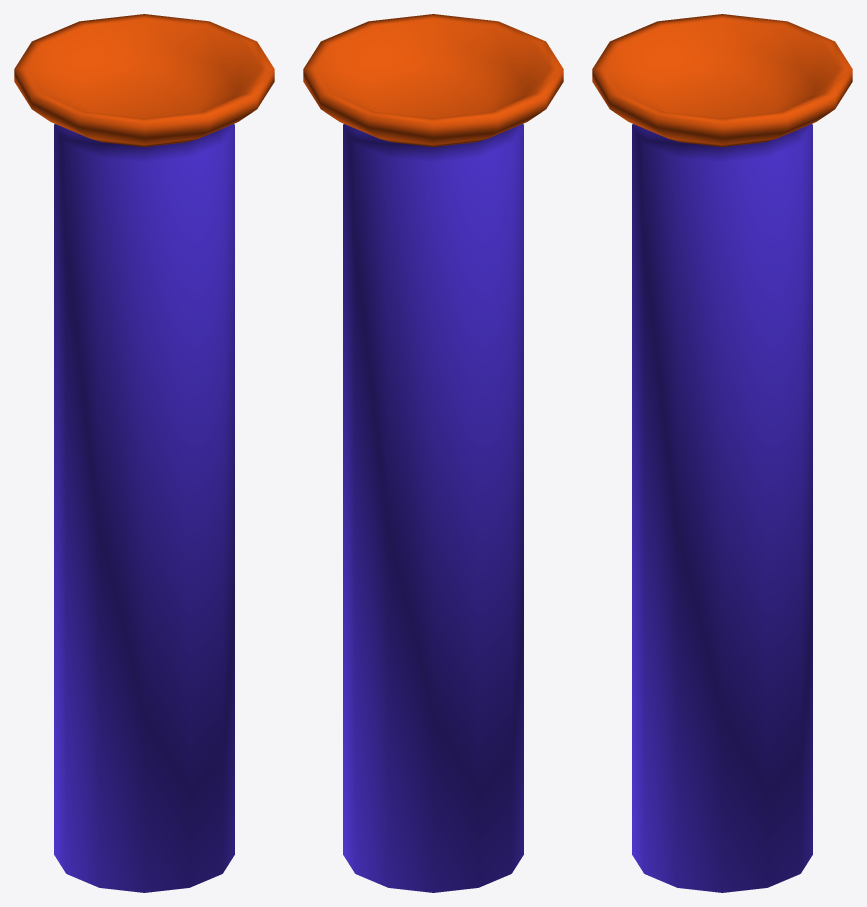
File: Dart.fbx
3 views of the same model, side by side, from view 1: azimuth 30°, elevation 25°; view 2: azimuth 150°, elevation 25°; view 3: azimuth 270°, elevation 25° (orthographic).
Visible parts, largest first — view 1: Dart; view 2: Dart; view 3: Dart.
Boxes of the visible parts, x1,y1,x2,y2 form: Dart: (14, 14, 274, 892); Dart: (303, 14, 563, 892); Dart: (592, 14, 852, 892).
Size of the model in its own units: 4.39 by 14.64 by 4.39.
